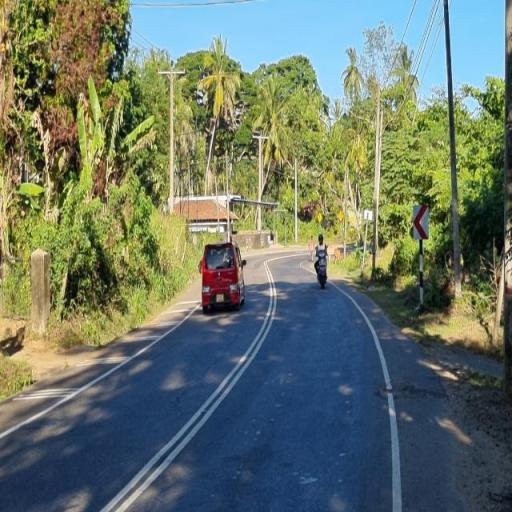double_white_line: (100, 252, 282, 511)
